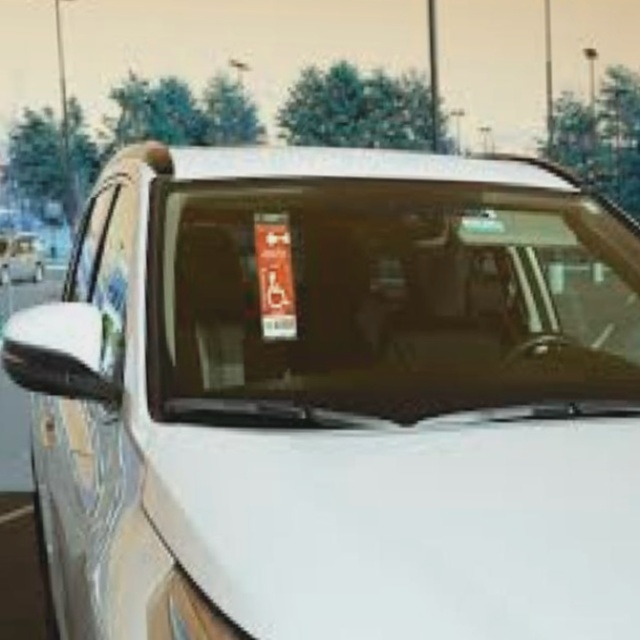ISA: (267, 270, 293, 311)
